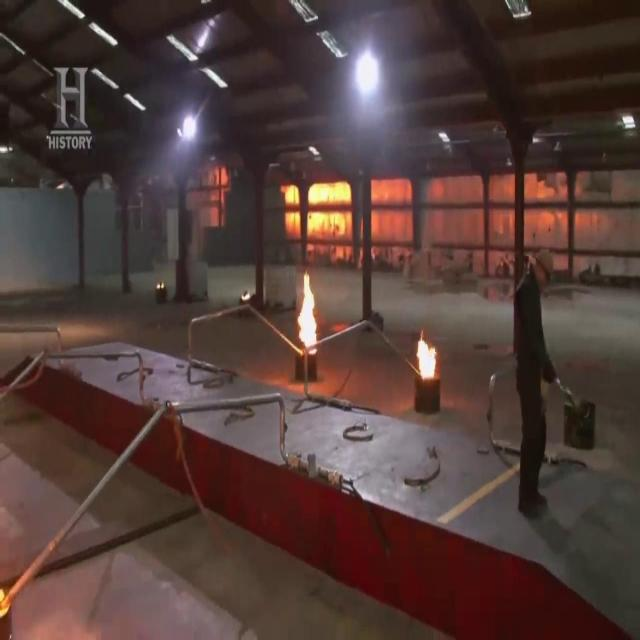Fire: (283, 188, 351, 245), (290, 276, 326, 360), (410, 335, 439, 381)
